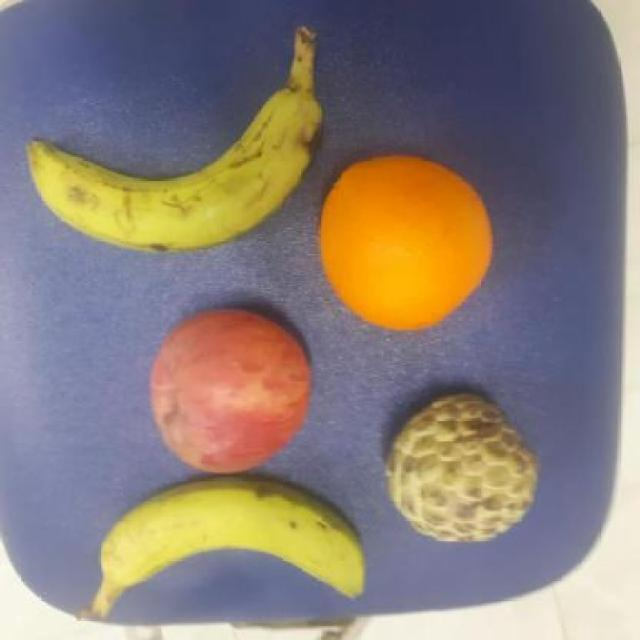apple: (145, 308, 317, 479)
banana: (24, 83, 324, 254), (88, 480, 370, 609)
oren: (312, 156, 500, 333)
sugar apple: (381, 388, 545, 548)
